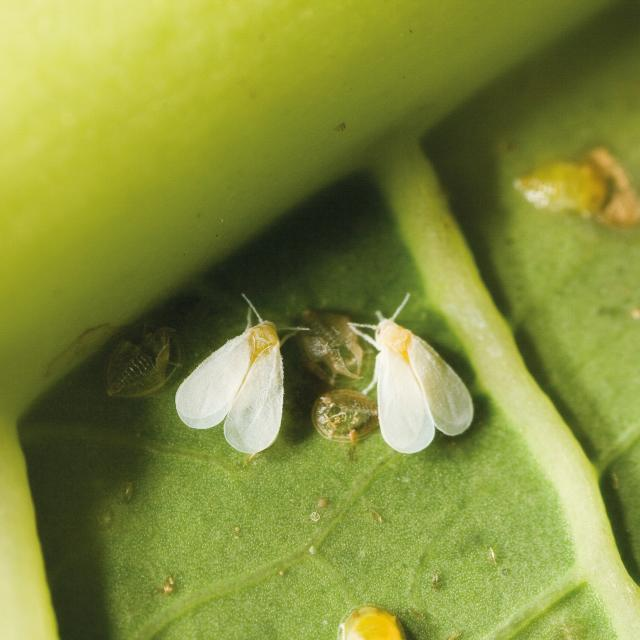Whitefly: (338, 279, 488, 478), (164, 290, 321, 464)
